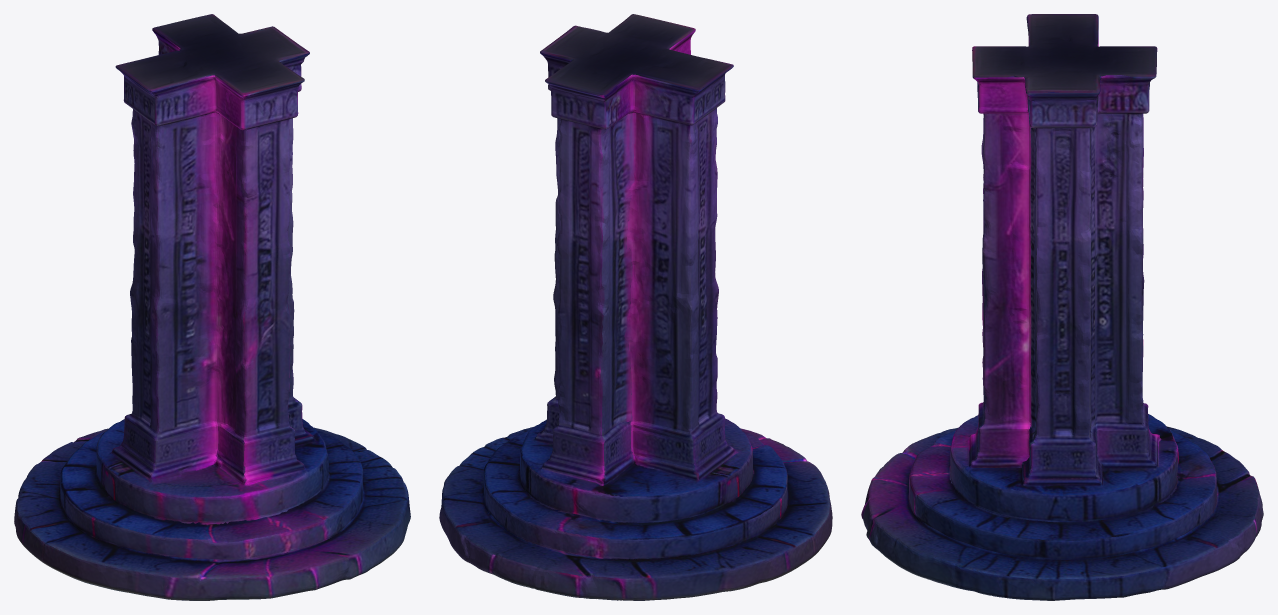
Rendered from weathered-monolith-pillar-generated-2026-04-19T23-24-06-758Z.glb.
The picture shows the model from 3 angles, left to right: view 1: azimuth 30°, elevation 25°; view 2: azimuth 150°, elevation 25°; view 3: azimuth 270°, elevation 25°; orthographic projection.
Visible parts, largest first — view 1: temp_mesh.ply; view 2: temp_mesh.ply; view 3: temp_mesh.ply.
Part boxes in pixels (x1=…): temp_mesh.ply: x1=14, y1=14, x2=410, y2=600; temp_mesh.ply: x1=439, y1=14, x2=832, y2=600; temp_mesh.ply: x1=861, y1=14, x2=1263, y2=600.
Size of the model in its own units: 1.54 by 1.97 by 1.54.
1 material, 1 textured.
